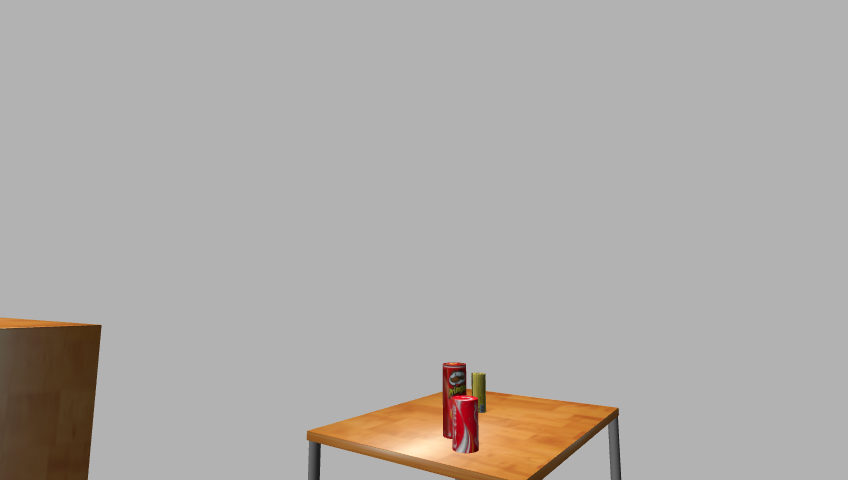biscuits pack: (470, 372, 486, 416)
bookshelf: (0, 315, 107, 479)
coke can: (449, 398, 480, 454)
dinner table: (298, 391, 637, 480)
pringles can: (441, 361, 468, 446)
